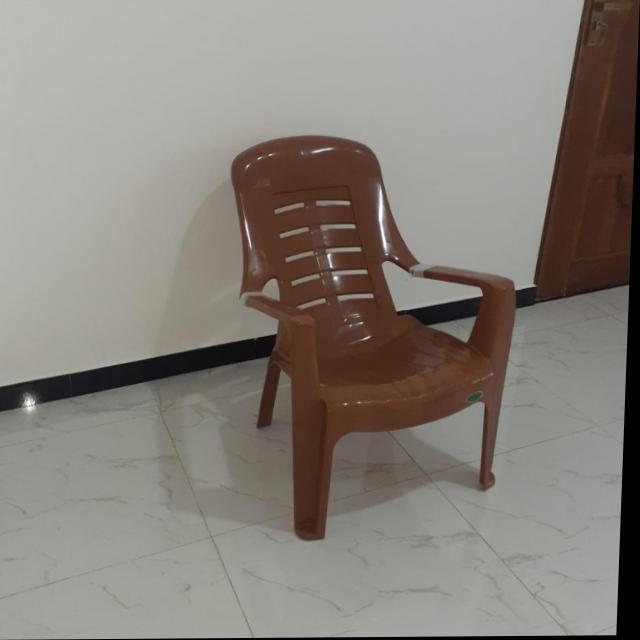Chair: (219, 132, 523, 543)
